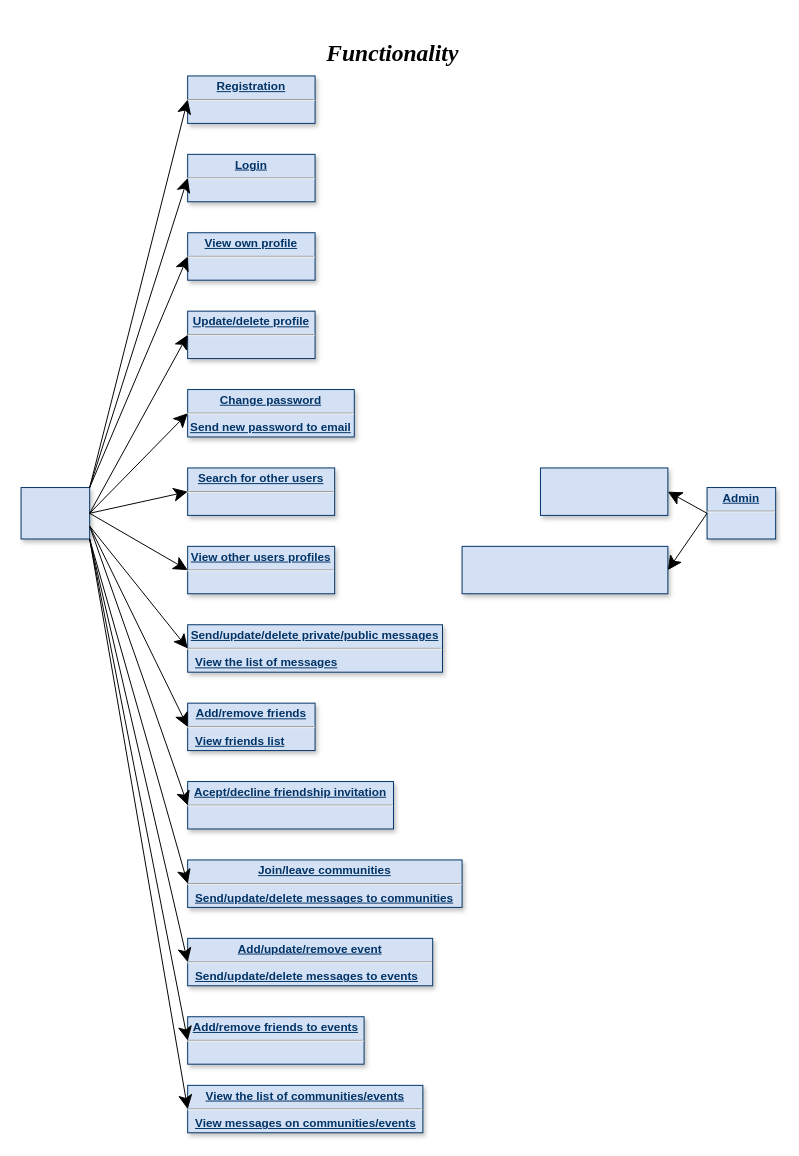
Image size: 799x1156. Some labels were removed from this diagram. The shapes that lost their labels are listed below. From the top down, each one's centre as x and y in pixels, then its label:
pixel 605 492: Block/unblock user
pixel 56 514: User
pixel 565 571: Add/update/remove communities
